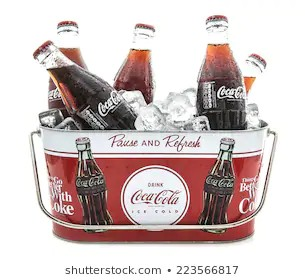coke-glass-bottle: (33, 43, 132, 128), (200, 14, 247, 126), (120, 21, 158, 94)
